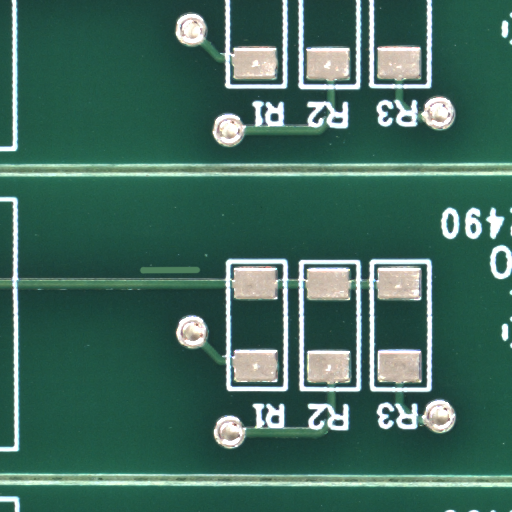Spurious_copper: (170, 269, 231, 280)
